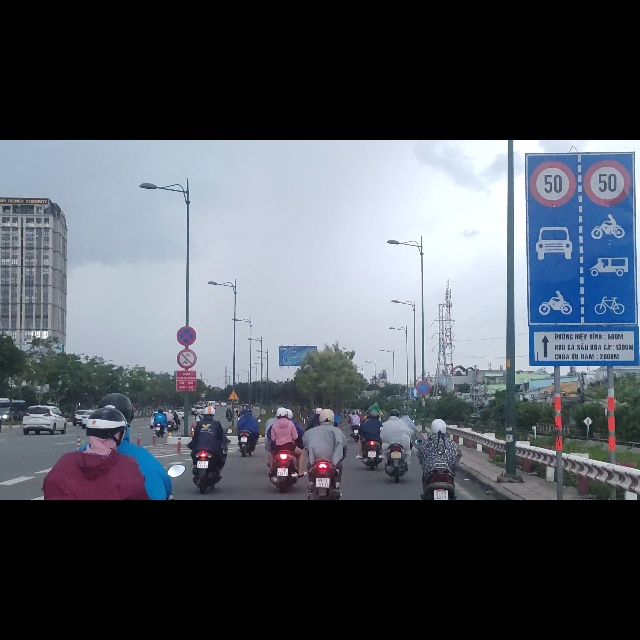bien_chi_dan: (529, 132, 637, 331), (526, 27, 577, 121), (581, 30, 632, 120), (176, 330, 197, 366), (177, 372, 197, 405), (416, 427, 431, 455), (228, 442, 239, 462), (410, 440, 419, 457)
